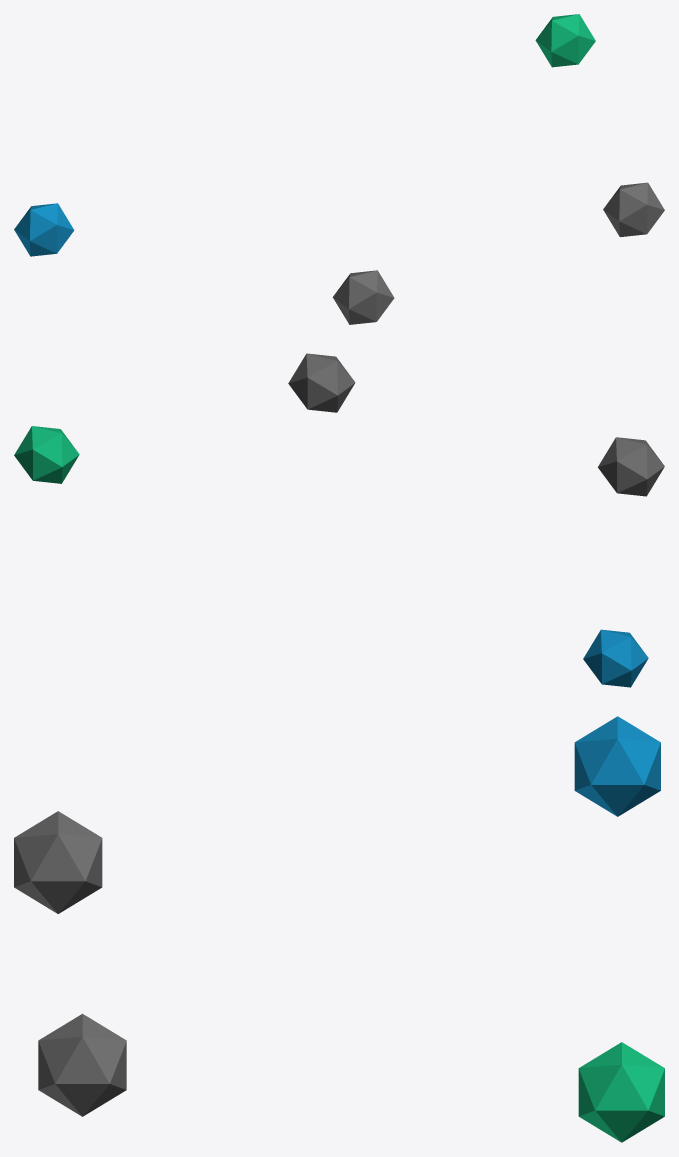
3 views of the same model, one above another, from view 1: azimuth 30°, elevation 25°; view 2: azimuth 150°, elevation 25°; view 3: azimuth 270°, elevation 25° (orthographic). The views are drawn at different scales.
Visible parts, largest first — view 1: 02_02_00; view 2: 02_02_00; view 3: 02_02_00.
Boxes of the visible parts, x1,y1,x2,y2 form: 02_02_00: [14, 14, 664, 324]; 02_02_00: [14, 353, 664, 687]; 02_02_00: [14, 716, 664, 1142].
Size of the model in its own units: 0.6906 by 0.125 by 0.4092.
